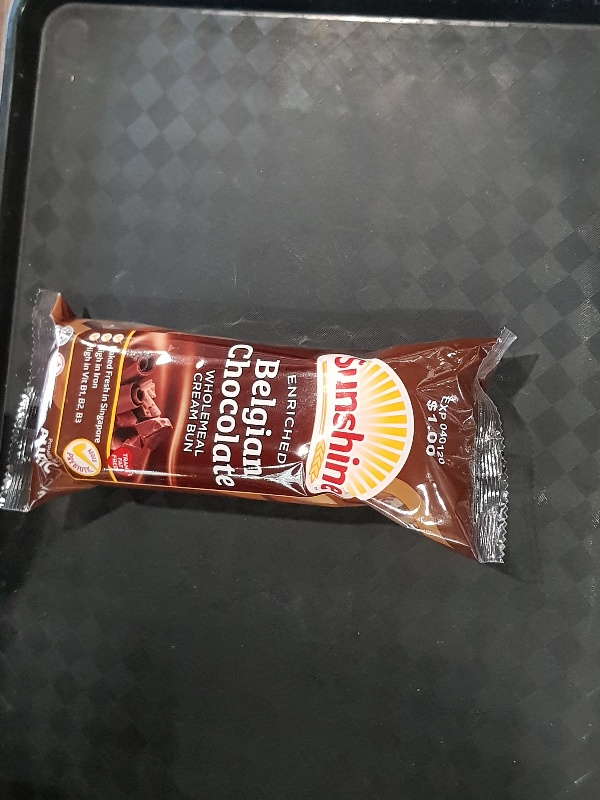Sunshine Belgium Chocolate Wholemeal Cream Bun: (1, 286, 517, 563)
